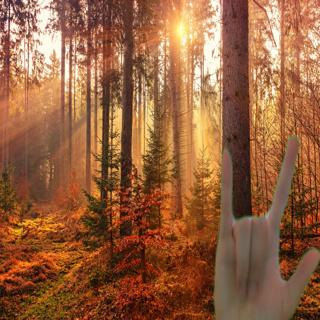ILY: (208, 133, 320, 320)
